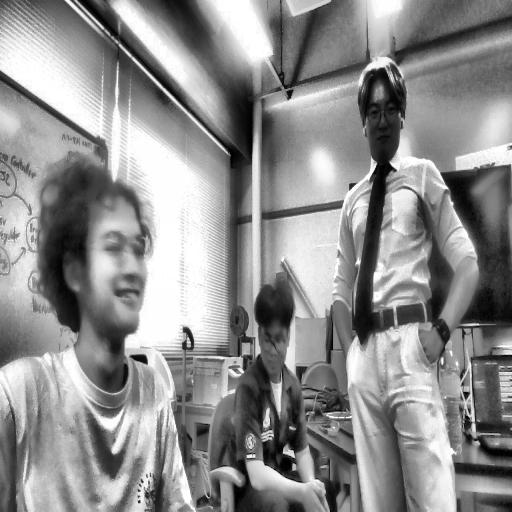Daifuku: (42, 171, 148, 359)
Not Daifuku: (356, 51, 412, 162), (256, 282, 295, 378)
